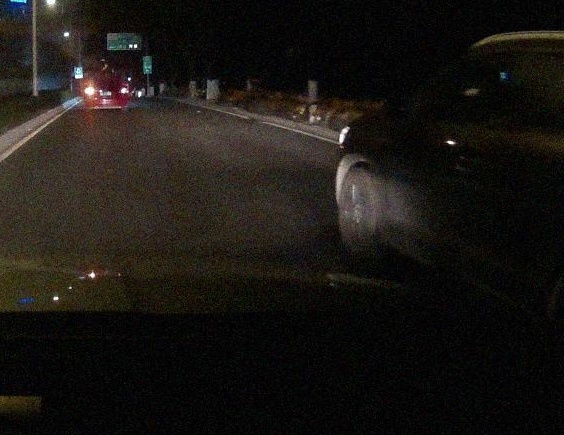L_light: (85, 87, 95, 95)
R_light: (119, 87, 128, 94)
T_light: (102, 78, 110, 80)
night-left: (84, 77, 130, 112)
